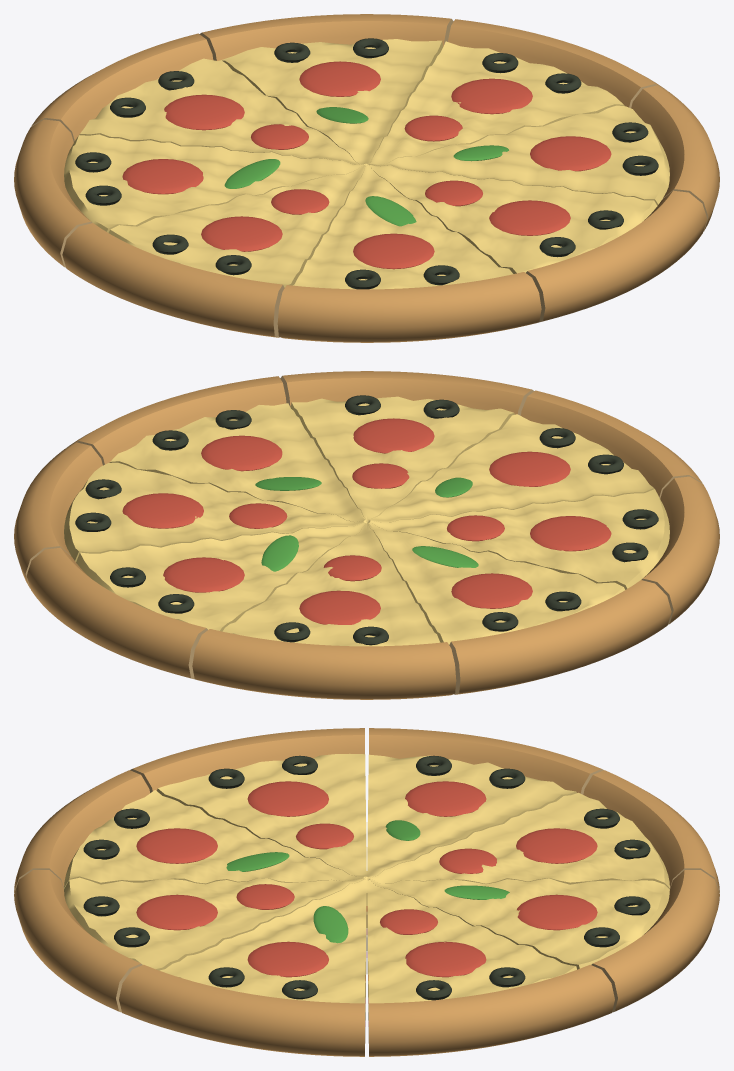
Rendered from pizza_entiere.fbx.
The picture shows the model from 3 angles, top to bottom: view 1: azimuth 30°, elevation 25°; view 2: azimuth 150°, elevation 25°; view 3: azimuth 270°, elevation 25°; orthographic projection.
Parts seen in each view (by area): view 1: Pizza_Entiere; view 2: Pizza_Entiere; view 3: Pizza_Entiere.
Part boxes in pixels (box(x1,y1,x2,y2)): Pizza_Entiere: box(14, 14, 719, 342); Pizza_Entiere: box(14, 371, 719, 699); Pizza_Entiere: box(14, 728, 719, 1056).
Bounding box in the file's own units: 0.3024 × 0.0225 × 0.3024.
